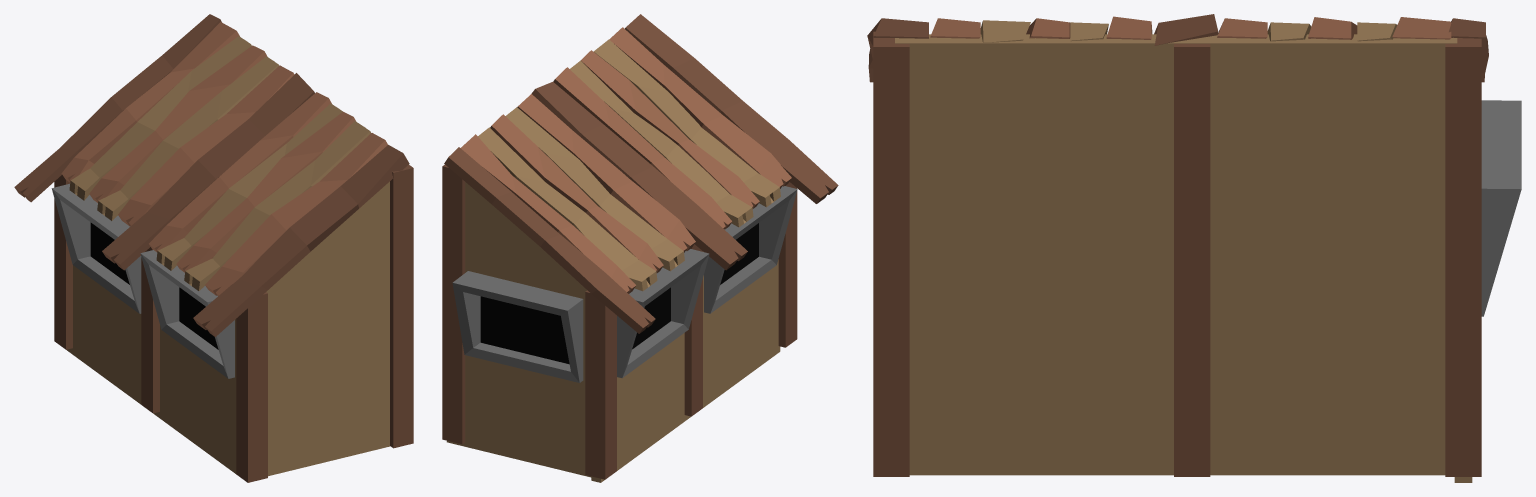
The model's file is Train_World_Building_Hut.fbx.
The picture shows the model from 3 angles, left to right: view 1: azimuth 30°, elevation 25°; view 2: azimuth 150°, elevation 25°; view 3: azimuth 270°, elevation 25°; orthographic projection. The views are drawn at different scales.
Parts seen in each view (by area): view 1: Cube.716; view 2: Cube.716; view 3: Cube.716.
Part boxes in pixels (bbox=[...]): Cube.716: bbox=[14, 14, 413, 482]; Cube.716: bbox=[442, 14, 838, 482]; Cube.716: bbox=[867, 14, 1521, 482].
Bounding box in the file's own units: 180 × 254 × 321.
